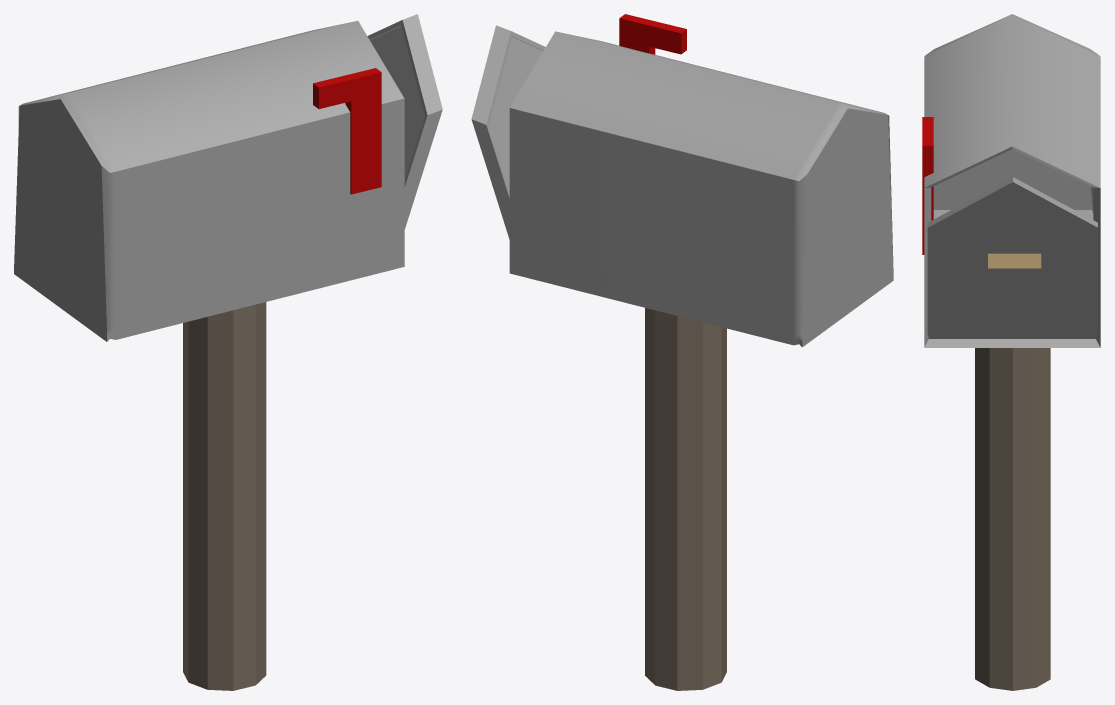
File: MailboxOpen.fbx
3 renders of one model, left to right at view 1: azimuth 30°, elevation 25°; view 2: azimuth 150°, elevation 25°; view 3: azimuth 270°, elevation 25°, orthographic. The views are drawn at different scales.
Visible parts, largest first — view 1: polySurface29; view 2: polySurface29; view 3: polySurface29.
Part boxes in pixels (bbox=[...]): polySurface29: bbox=[14, 14, 442, 690]; polySurface29: bbox=[471, 14, 893, 690]; polySurface29: bbox=[922, 14, 1100, 690].
Size of the model in its own units: 1.5 by 2.49 by 0.6822.
